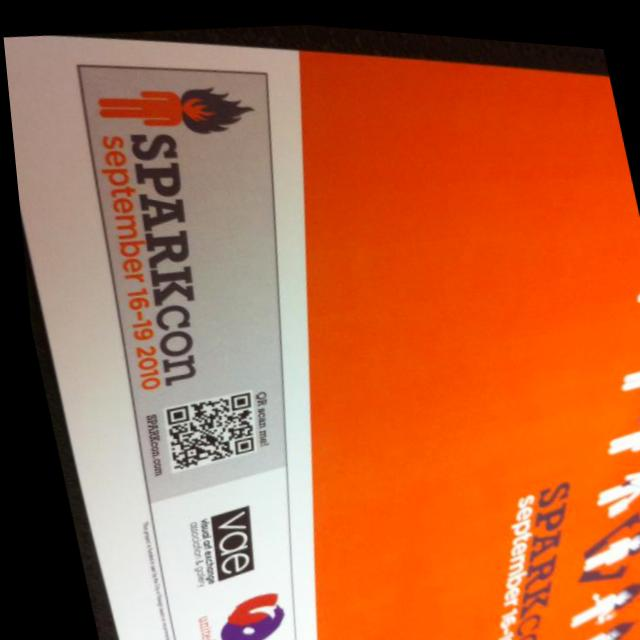qrcode: (150, 383, 258, 476)
